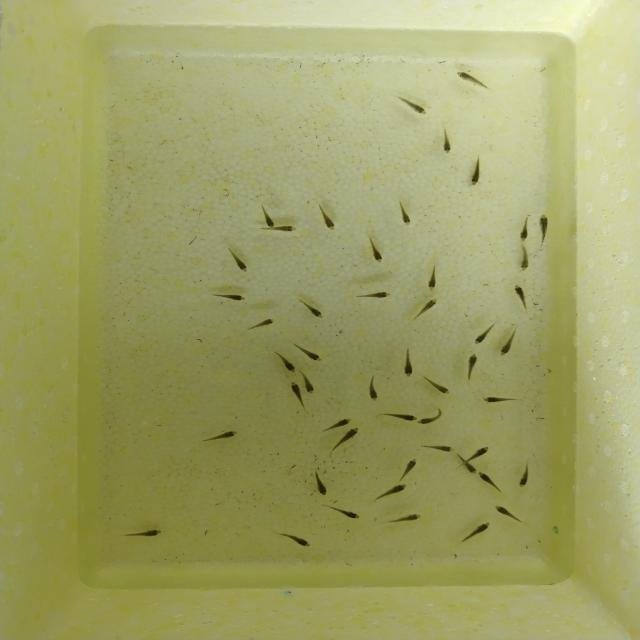fingerling: (391, 94, 436, 119), (452, 68, 496, 92), (463, 154, 492, 190), (457, 518, 494, 546), (313, 200, 340, 234), (362, 236, 390, 266), (370, 482, 410, 503), (492, 502, 528, 525), (408, 296, 441, 321), (324, 502, 363, 523), (274, 529, 313, 550), (434, 124, 458, 158), (294, 297, 328, 320), (534, 210, 554, 249), (118, 525, 166, 541), (223, 246, 250, 274), (292, 339, 324, 362), (199, 427, 242, 444), (393, 200, 419, 228), (308, 469, 333, 498), (498, 328, 522, 358), (383, 510, 428, 526), (422, 375, 453, 398), (362, 372, 384, 404), (240, 316, 278, 334), (399, 344, 418, 379), (379, 408, 418, 425), (509, 281, 531, 310), (471, 322, 497, 346), (478, 392, 522, 406), (417, 407, 446, 428), (396, 456, 419, 482), (271, 352, 297, 374), (355, 288, 395, 302), (207, 289, 247, 303), (478, 472, 504, 493), (287, 381, 304, 413), (336, 427, 362, 447), (463, 351, 479, 383), (257, 202, 275, 229), (516, 213, 532, 243), (516, 246, 533, 274), (418, 442, 457, 454), (516, 460, 532, 489), (300, 372, 320, 395), (324, 414, 356, 428), (425, 266, 442, 292), (469, 445, 492, 461), (277, 223, 300, 234), (465, 463, 478, 474)
